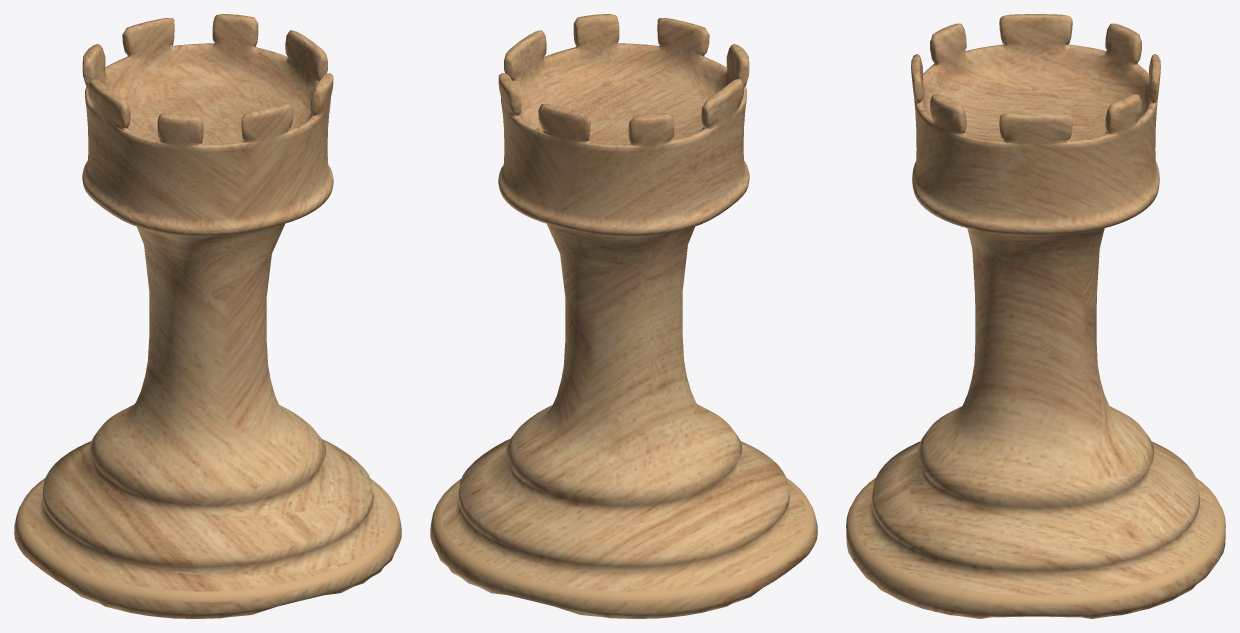
The model's file is rook_white.glb.
The picture shows the model from 3 angles, left to right: view 1: azimuth 30°, elevation 25°; view 2: azimuth 150°, elevation 25°; view 3: azimuth 270°, elevation 25°; orthographic projection.
Parts seen in each view (by area): view 1: Cylinder; view 2: Cylinder; view 3: Cylinder.
Boxes of the visible parts, <box> form: Cylinder: <box>14,14,401,618</box>; Cylinder: <box>430,14,817,618</box>; Cylinder: <box>846,14,1225,618</box>.
Bounding box in the file's own units: 0.6865 × 0.962 × 0.6809.
Materials: 1 (1 with a texture image).
